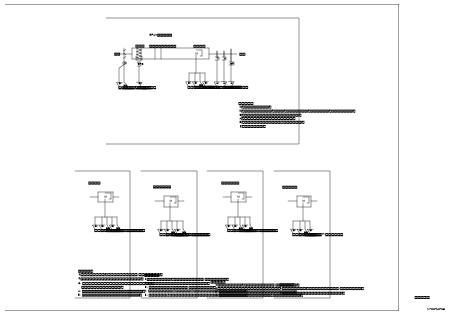door: (109, 113, 119, 122), (335, 109, 345, 118), (213, 260, 223, 269), (183, 109, 193, 118), (261, 113, 271, 122), (108, 111, 116, 118), (108, 117, 116, 124), (112, 117, 120, 124), (112, 111, 120, 118), (338, 107, 346, 114), (340, 110, 348, 117), (338, 112, 346, 119), (334, 107, 342, 114), (212, 264, 220, 271), (212, 259, 220, 266), (216, 264, 224, 271), (186, 107, 194, 114), (188, 110, 196, 117), (186, 112, 194, 119), (181, 110, 189, 117), (260, 111, 268, 118), (258, 114, 266, 121), (260, 117, 268, 124), (265, 114, 273, 121), (107, 114, 114, 121), (114, 114, 121, 121), (333, 110, 340, 117), (211, 261, 218, 268), (218, 261, 225, 268), (183, 107, 190, 114), (264, 117, 271, 124), (264, 111, 271, 118), (334, 113, 342, 119), (216, 259, 224, 265), (183, 113, 191, 119), (153, 253, 154, 259)
room: (307, 14, 371, 144), (79, 14, 143, 144), (155, 14, 219, 144), (231, 14, 295, 144), (100, 83, 107, 89), (119, 83, 126, 89), (107, 83, 114, 89), (127, 230, 134, 236), (251, 83, 258, 89), (259, 83, 266, 89), (271, 83, 277, 89), (113, 84, 120, 89), (345, 79, 352, 84), (326, 79, 333, 84), (333, 79, 340, 84), (339, 79, 346, 84), (225, 231, 232, 236), (133, 231, 140, 236), (150, 231, 157, 236), (206, 231, 213, 236), (255, 231, 262, 236), (193, 79, 200, 84), (174, 79, 181, 84), (200, 79, 207, 84), (276, 84, 283, 89), (125, 84, 131, 89), (220, 231, 226, 236), (214, 231, 220, 236), (239, 231, 245, 236), (247, 231, 253, 236), (182, 79, 188, 84), (188, 79, 194, 84), (265, 84, 271, 89)
staircase: (160, 24, 163, 26)
wall: (151, 253, 156, 256), (256, 253, 261, 256), (248, 259, 252, 262), (240, 259, 244, 261)
window: (250, 265, 251, 266), (250, 263, 251, 264), (249, 262, 250, 263), (249, 264, 250, 265), (249, 266, 250, 267), (250, 267, 251, 267)
